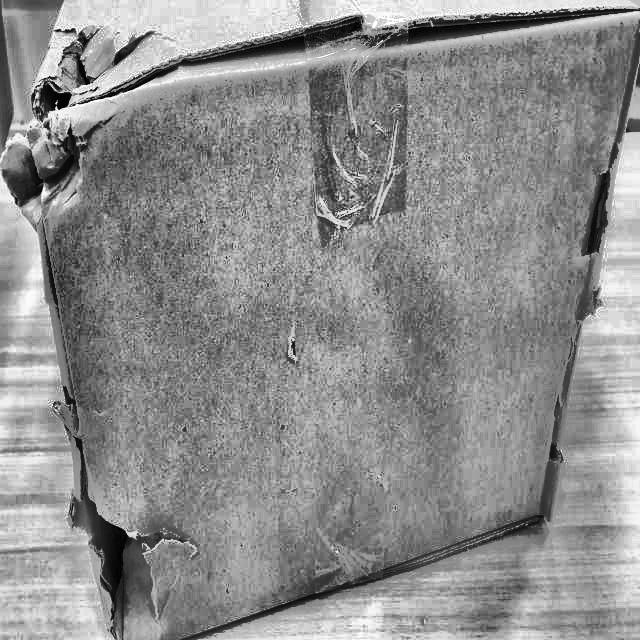box: (1, 0, 639, 639)
hole: (63, 388, 189, 640), (41, 25, 108, 197), (570, 146, 625, 266)
